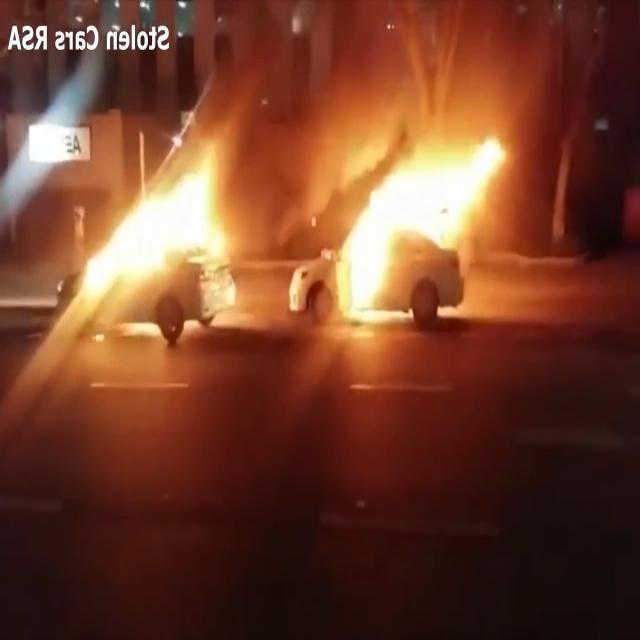fire: (337, 133, 507, 311), (92, 151, 225, 307)
